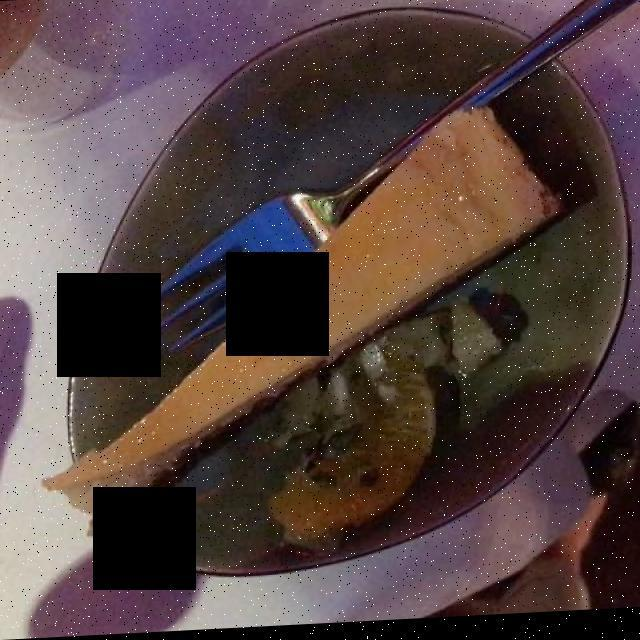cheesecake: (41, 102, 566, 529)
fruit-salad: (272, 307, 502, 555)
